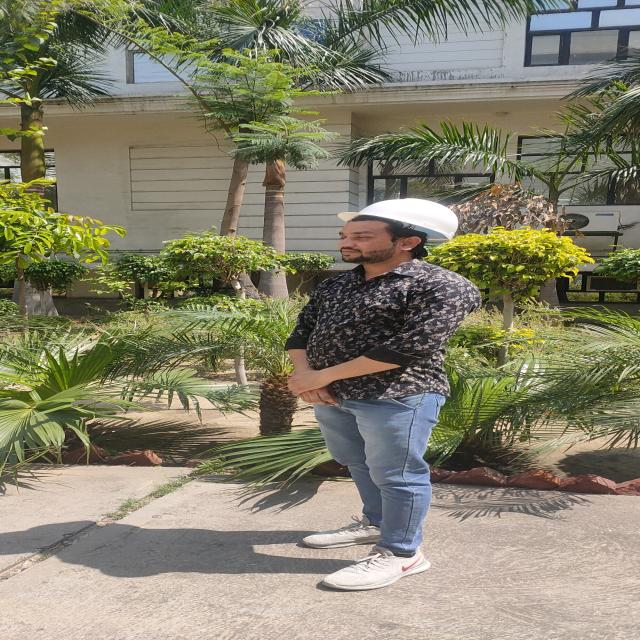no jacket: (289, 198, 469, 588)
